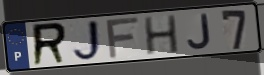7: (220, 9, 248, 51)
F: (104, 15, 142, 61)
H: (142, 13, 181, 57)
J: (70, 19, 105, 63), (186, 13, 213, 51)
R: (31, 21, 69, 68)
